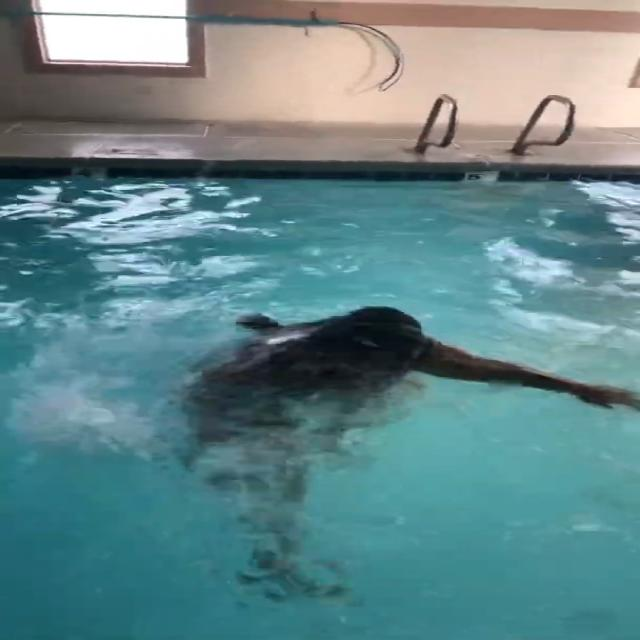Swimming: (195, 296, 638, 589)
